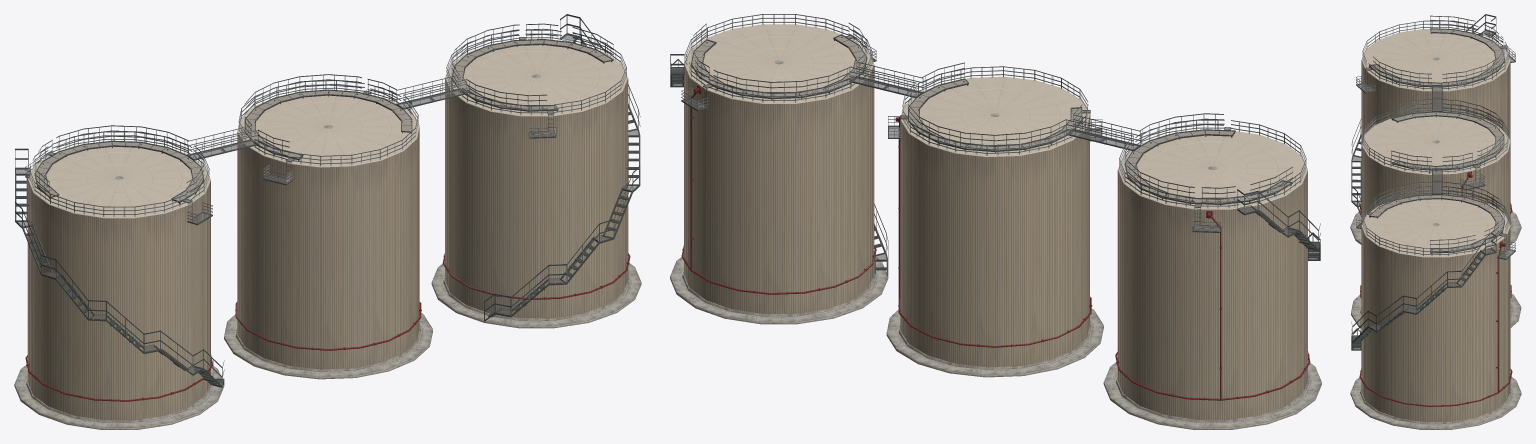
File: plant-building27.glb
3 views of the same model, side by side, from view 1: azimuth 30°, elevation 25°; view 2: azimuth 150°, elevation 25°; view 3: azimuth 270°, elevation 25° (orthographic). The views are drawn at different scales.
Parts seen in each view (by area): view 1: Object8935474; view 2: Object8935474; view 3: Object8935474.
Boxes of the visible parts, x1=… form: Object8935474: x1=14, y1=14, x2=641, y2=429; Object8935474: x1=670, y1=14, x2=1321, y2=429; Object8935474: x1=1350, y1=14, x2=1521, y2=429.
Size of the model in its own units: 41.49 by 15.06 by 12.63.
Materials: 1 (1 with a texture image).
